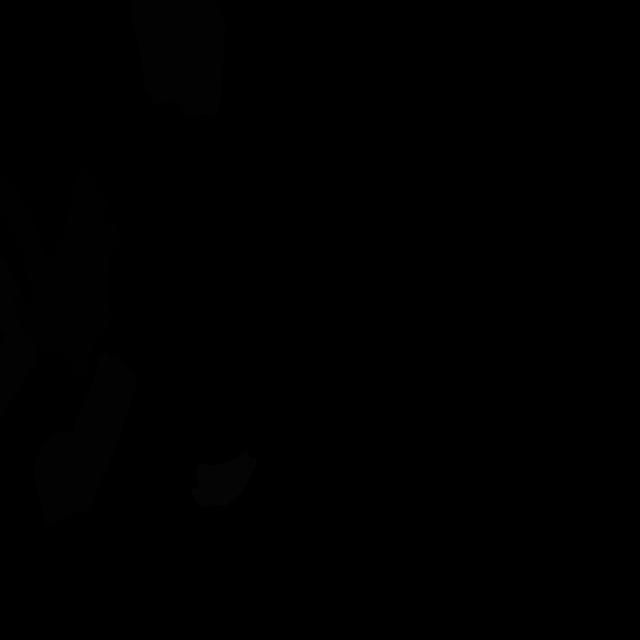cardboard: (34, 352, 138, 525), (132, 0, 226, 116), (0, 256, 36, 417)
rigid_plastic: (0, 165, 123, 380)
soft_plastic: (191, 452, 256, 508)
